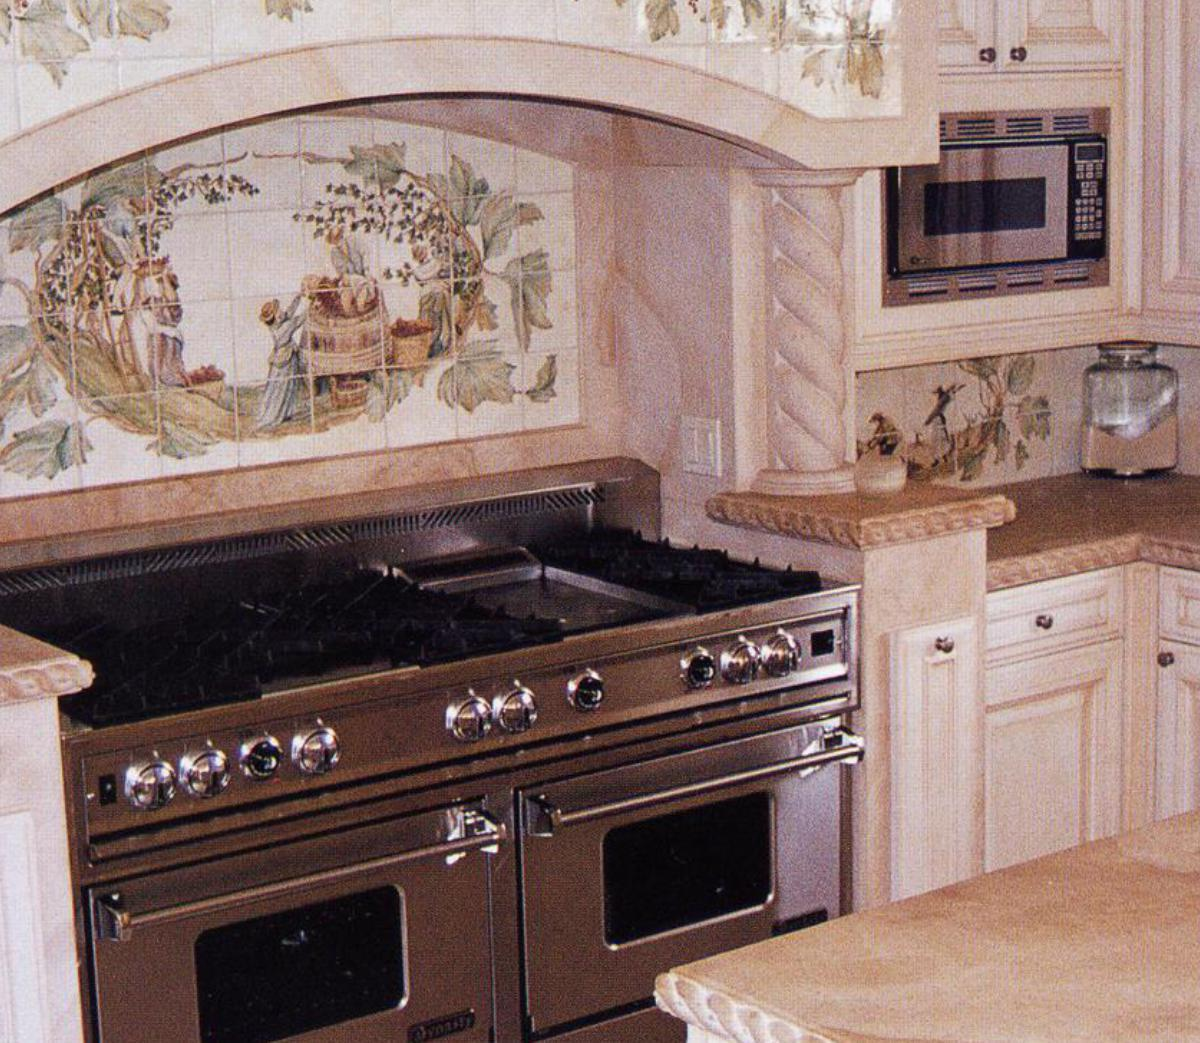Electrodomestico: (47, 606, 509, 1043), (453, 560, 852, 909)
